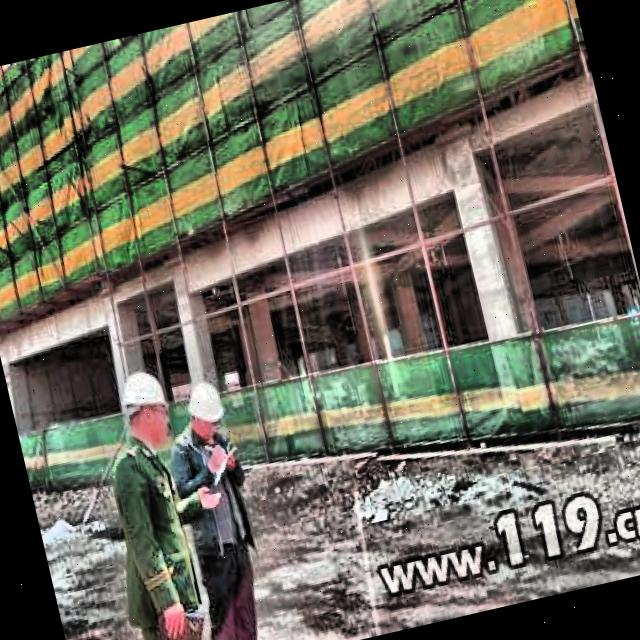helmet: (112, 361, 182, 452), (178, 373, 226, 443)
